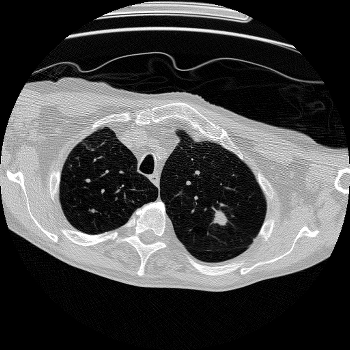nodule: (87, 179, 91, 183)
